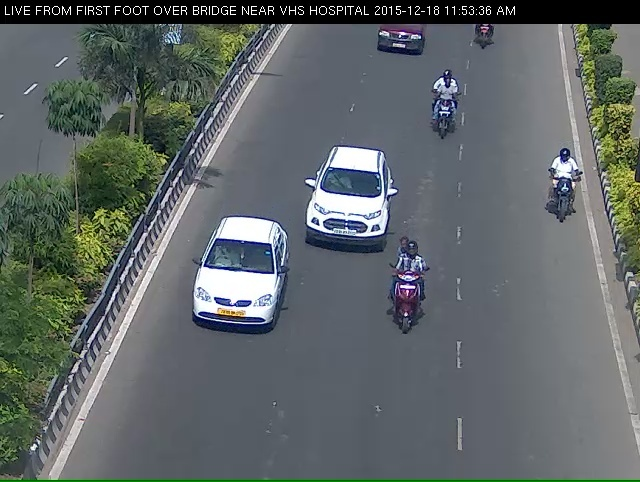Car: (184, 226, 286, 367), (295, 156, 385, 266), (365, 19, 428, 69)
Person: (380, 258, 433, 361), (541, 152, 583, 242), (418, 78, 465, 155)
